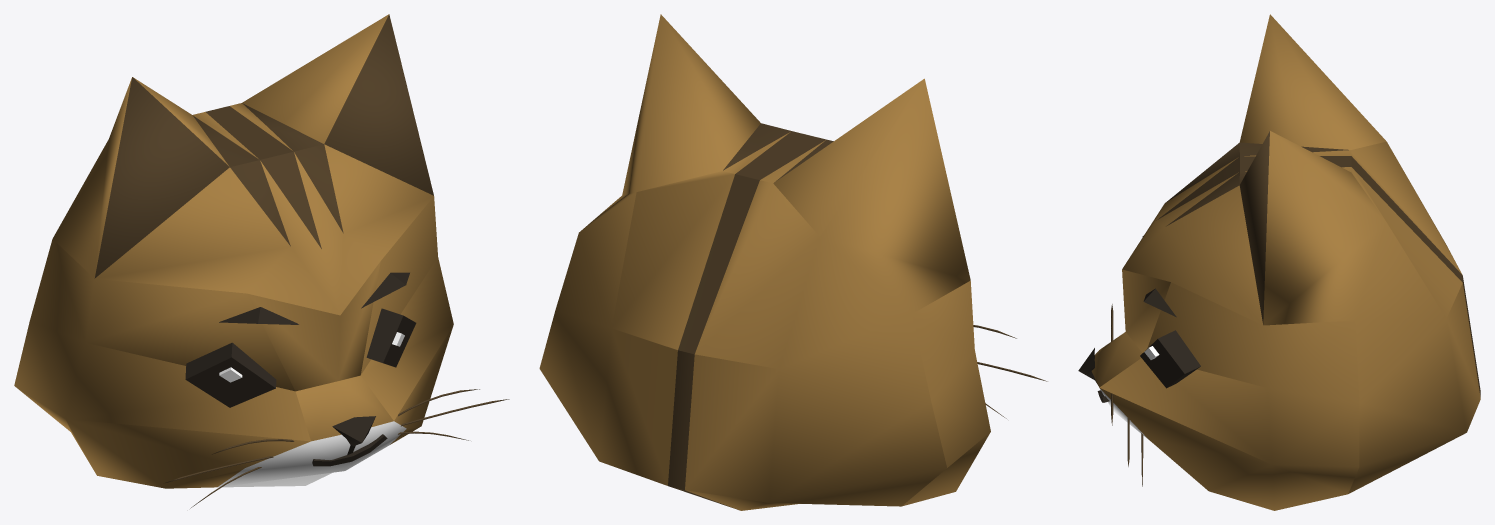
File: imageDemo.glb
3 views of the same model, side by side, from view 1: azimuth 30°, elevation 25°; view 2: azimuth 150°, elevation 25°; view 3: azimuth 270°, elevation 25° (orthographic). The views are drawn at different scales.
Parts seen in each view (by area): view 1: polySurface1, polySurface14, polySurface15, pCube1, polySurface12, polySurface13, pCube5; view 2: polySurface1; view 3: polySurface1, polySurface15.
Boxes of the visible parts, x1,y1,x2,y2 form: polySurface1: (14,14,453,488); polySurface14: (185,342,276,407); polySurface15: (366,308,416,367); pCube1: (332,416,375,446); polySurface12: (219,307,298,324); polySurface13: (361,272,409,308); pCube5: (312,434,387,466); polySurface1: (539,14,990,510); polySurface1: (1091,14,1480,510); polySurface15: (1140,330,1200,388).
Size of the model in its own units: 0.4929 by 0.4934 by 0.4653.
